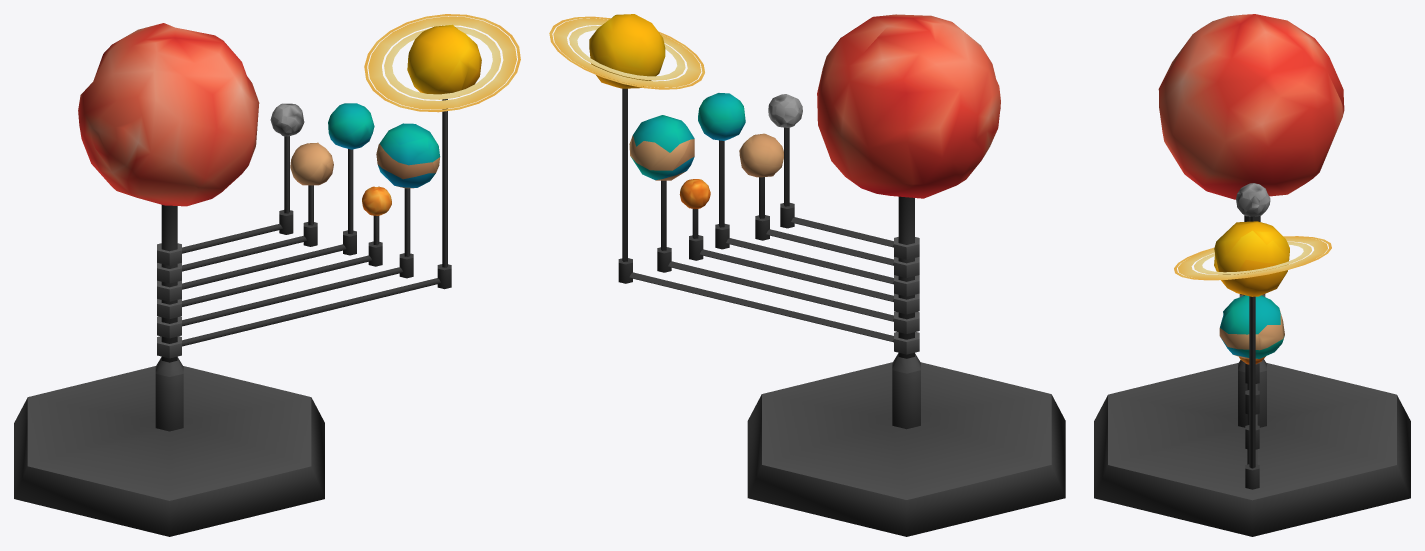
File: CR_sci_Solar.FBX
3 renders of one model, left to right at view 1: azimuth 30°, elevation 25°; view 2: azimuth 150°, elevation 25°; view 3: azimuth 270°, elevation 25°, orthographic. The views are drawn at different scales.
Parts seen in each view (by area): view 1: 01, 07, 06, 04, 03, 05, 02; view 2: 01, 07, 06, 04, 03, 05, 02; view 3: 01, 07, 06, 02, 05.
Part boxes in pixels (x1,y1,x2,y2): 01: (14,23,324,536); 07: (157,14,520,358); 06: (157,123,440,338); 04: (157,103,374,301); 03: (157,142,333,283); 05: (157,186,391,319); 02: (157,103,304,265); 01: (747,14,1065,536); 07: (549,14,919,354); 06: (629,115,919,333); 04: (698,93,919,296); 03: (739,133,919,277); 05: (679,179,919,314); 02: (768,94,919,259); 01: (1094,14,1410,536); 07: (1174,221,1331,489); 06: (1219,295,1284,449); 02: (1236,183,1270,221); 05: (1239,294,1265,414).
Bounding box in the file's own units: 42.34 × 23.02 × 34.91.
